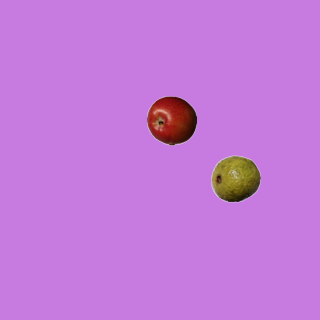Apple Braeburn: (146, 95, 196, 145)
Guava: (210, 153, 260, 203)
